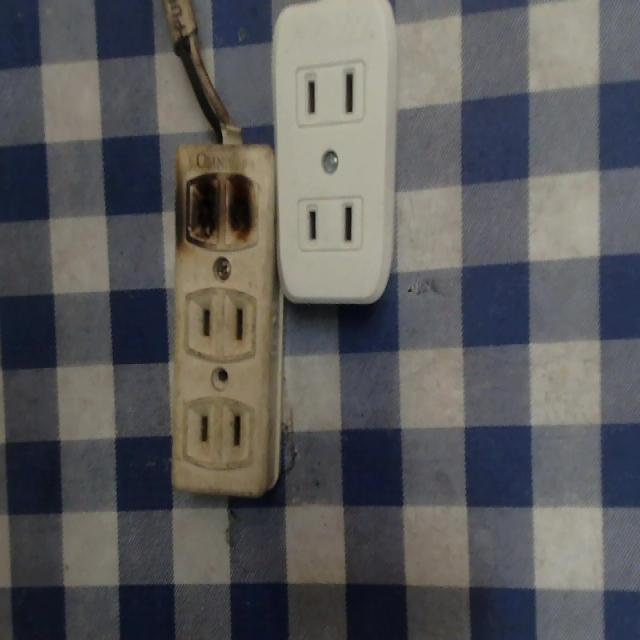-: (171, 161, 268, 252)
